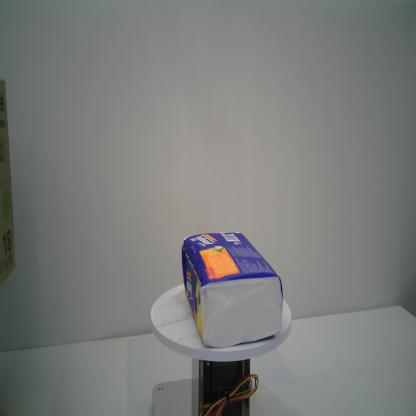Tissue: (181, 229, 285, 350)
